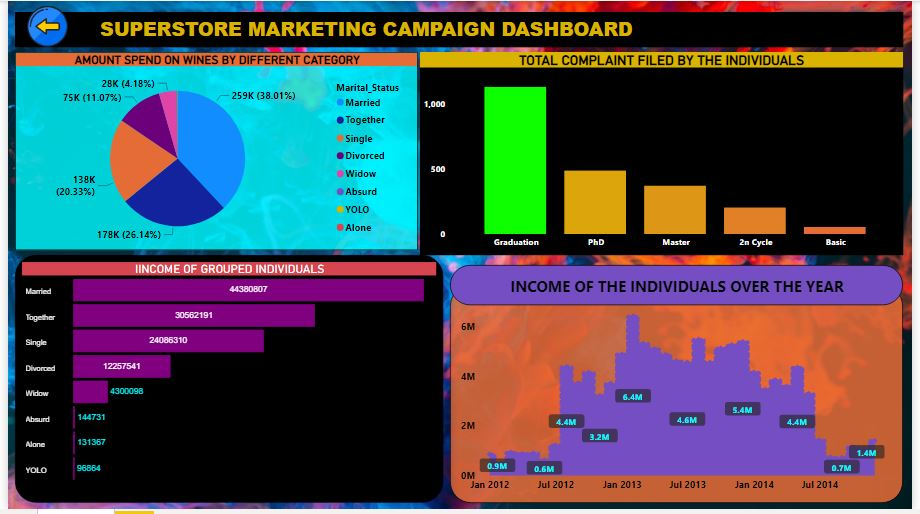

The dashboard page shown, as its layout file describes it:
{"tool":"powerbi","page":{"name":"Page 2","canvas":[1280,720],"ordinal":1},"visuals":[{"type":"stackedAreaChart","fields":{"Y":["Sum(Cleaned_sales_superstore.Income)"],"Category":["Cleaned_sales_superstore.Enrollment Date.Variation.Date Hierarchy.Year","Cleaned_sales_superstore.Enrollment Date.Variation.Date Hierarchy.Quarter","Cleaned_sales_superstore.Enrollment Date.Variation.Date Hierarchy.Month"]},"box":[626.5,402.5,642,309],"z":0},{"type":"pieChart","title":"AMOUNT SPEND ON WINES BY DIFFERENT CATEGORY","fields":{"Category":["Cleaned_sales_superstore.Marital_Status"],"Y":["ALL MEASURES AND CALCULATED COLUMN.Total Amount Spend On Wines"]},"box":[9.9,72.3,571.2,280.6],"z":1000},{"type":"TornadoChart1452517688218","title":"IINCOME OF GROUPED INDIVIDUALS","fields":{"Category":["Cleaned_sales_superstore.Marital_Status"],"Values":["Sum(Cleaned_sales_superstore.Income)"]},"box":[9.9,360,606.6,351.5],"z":2000},{"type":"columnChart","title":"TOTAL COMPLAINT FILED BY THE INDIVIDUALS","fields":{"Y":["CountNonNull(Cleaned_sales_superstore.COMPLAINTS)"],"Category":["Cleaned_sales_superstore.Education"]},"box":[583.9,72.3,684.6,287.7],"z":3000},{"type":"textbox","box":[9.9,15.6,1258.6,49.6],"z":4000},{"type":"textbox","box":[626.5,374.2,642,56.7],"z":5000},{"type":"image","box":[0,0,112,72.3],"z":6000}]}

Visuals, with their boxes in screenshot pixels (x1, y1, x2, y2), scaled from the page's 1280x720 canvas onto the 920x514 screenshot:
stackedAreaChart - Sum(Cleaned_sales_superstore.Income) x Cleaned_sales_superstore.Enrollment Date.Variation.Date Hierarchy.Year: l=450, t=287, r=912, b=508
"AMOUNT SPEND ON WINES BY DIFFERENT CATEGORY" pieChart: l=7, t=52, r=418, b=252
"IINCOME OF GROUPED INDIVIDUALS" TornadoChart1452517688218: l=7, t=257, r=443, b=508
"TOTAL COMPLAINT FILED BY THE INDIVIDUALS" columnChart: l=420, t=52, r=912, b=257
textbox: l=7, t=11, r=912, b=47
textbox: l=450, t=267, r=912, b=308
image: l=0, t=0, r=80, b=52
